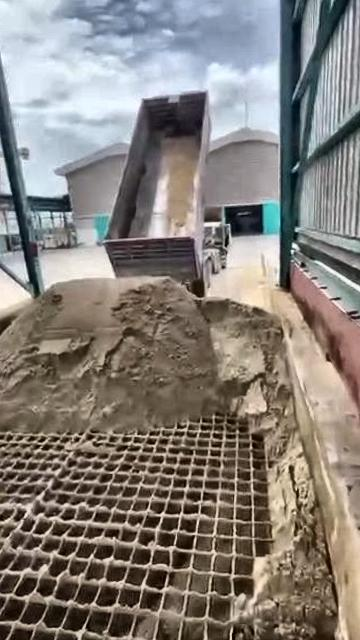sand: (0, 279, 336, 640), (162, 137, 198, 236)
